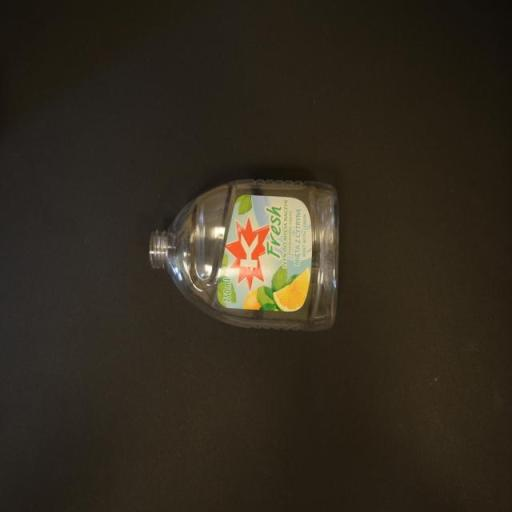plastic: (147, 176, 342, 330)
